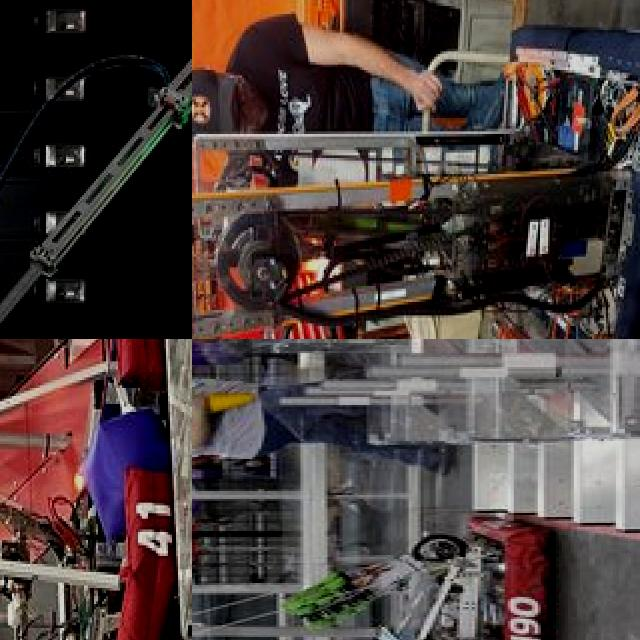FRC-Robots: (192, 0, 640, 339), (0, 0, 192, 339), (0, 339, 192, 640), (192, 512, 561, 640)
